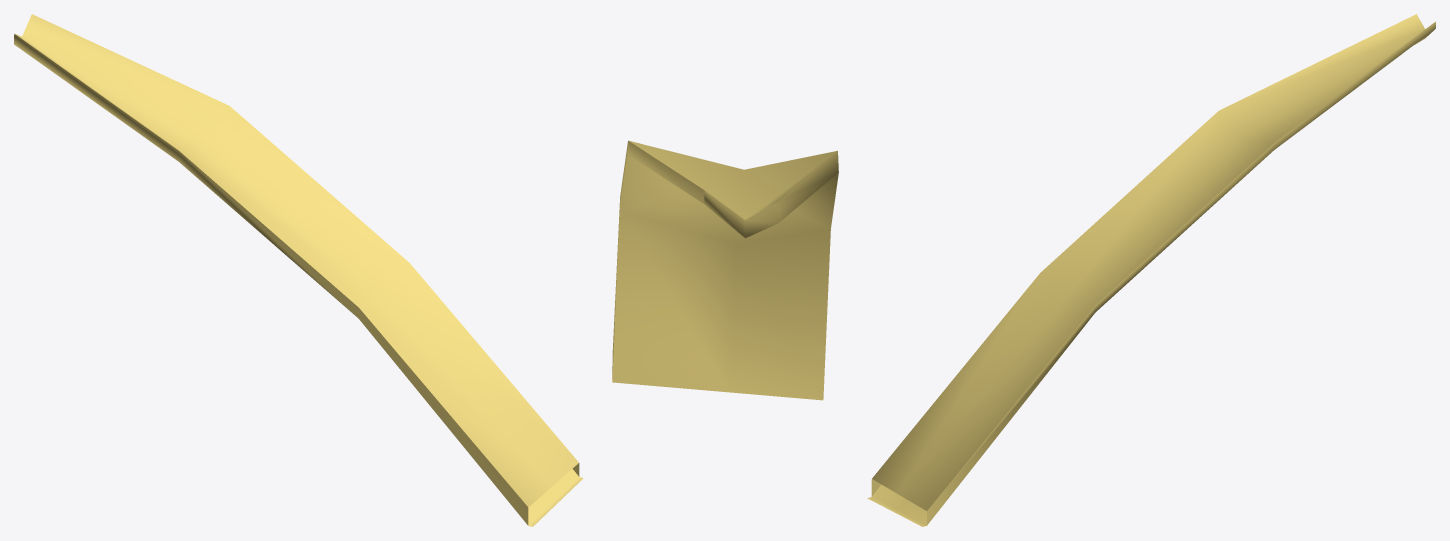
The model's file is Adventure-Mais-Blatt1.fbx.
3 renders of one model, left to right at view 1: azimuth 30°, elevation 25°; view 2: azimuth 150°, elevation 25°; view 3: azimuth 270°, elevation 25°, orthographic. The views are drawn at different scales.
Parts seen in each view (by area): view 1: Polygon; view 2: Polygon; view 3: Polygon.
Boxes of the visible parts, bbox=[...] form: Polygon: bbox=[14, 14, 583, 526]; Polygon: bbox=[612, 140, 838, 400]; Polygon: bbox=[867, 14, 1435, 526].
Bounding box in the file's own units: 4.58 × 4.85 × 6.81.
